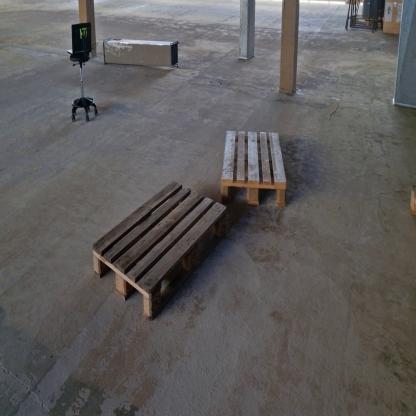BoxFace: (89, 173, 230, 327), (217, 126, 290, 214)
